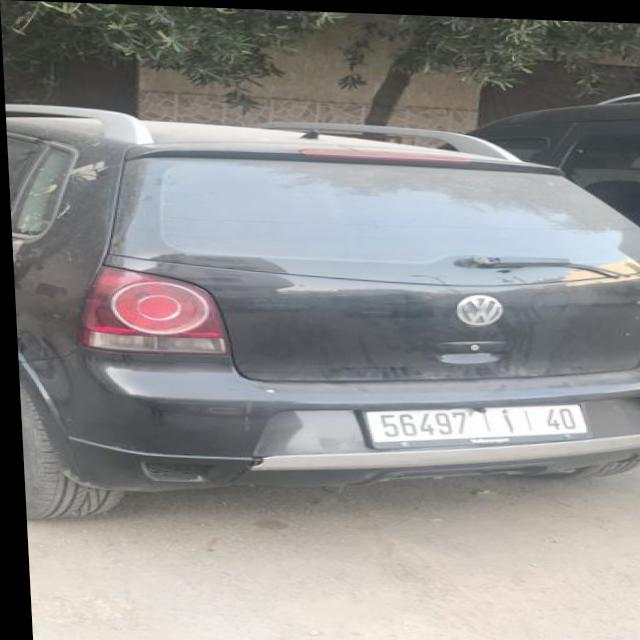License-Plate: (364, 402, 583, 441)
